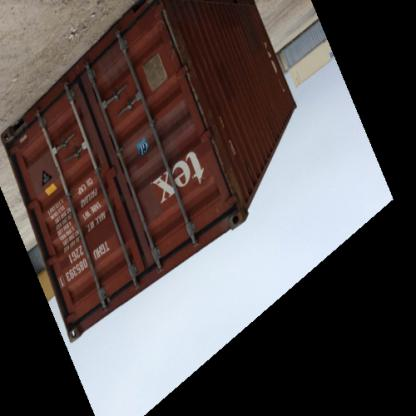Damage: (79, 61, 133, 82), (146, 12, 174, 36), (160, 40, 182, 64)
